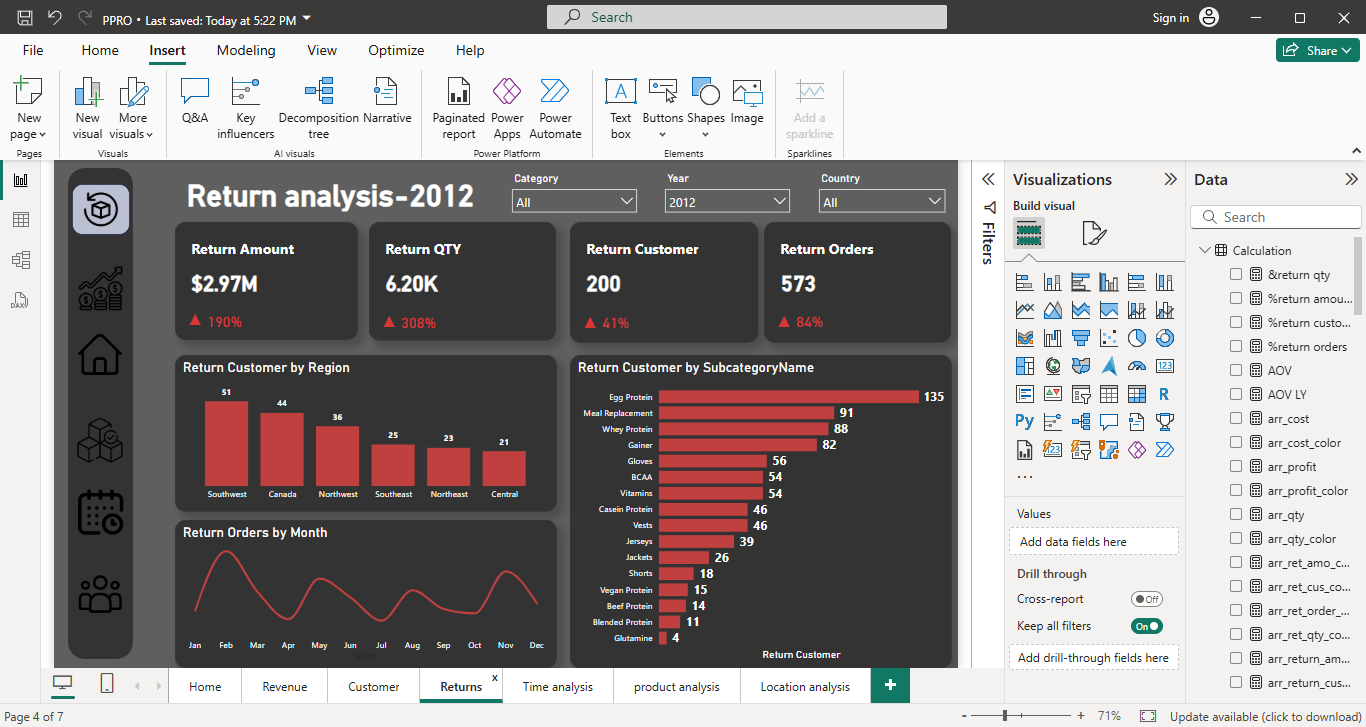

The page's visual inventory and layout, read from the dashboard file:
{"tool":"powerbi","page":{"name":"Returns","canvas":[1280,720],"ordinal":3},"visuals":[{"type":"cardVisual","fields":{"Data":["Calculation.Return Amount"]},"box":[171.5,87.9,259.4,167.2],"z":0},{"type":"cardVisual","fields":{"Data":["Calculation.Return QTY"]},"box":[446.8,87.3,265.4,168],"z":1000},{"type":"cardVisual","fields":{"Data":["Calculation.Return Customer"]},"box":[730.7,87.3,267.1,171.3],"z":2000},{"type":"cardVisual","fields":{"Data":["Calculation.Return Orders"]},"box":[1006.2,87.3,265.4,171.3],"z":3000},{"type":"cardVisual","fields":{"Data":["Calculation.%return amouny"]},"box":[199.8,192.8,126.1,56.7],"z":4000},{"type":"cardVisual","fields":{"Data":["Calculation.&return qty"]},"box":[474.8,192.8,107.7,66.6],"z":5000},{"type":"cardVisual","fields":{"Data":["Calculation.%return customer"]},"box":[759.7,192.8,104.9,66.6],"z":6000},{"type":"cardVisual","fields":{"Data":["Calculation.%return orders"]},"box":[1034.6,192.8,89.3,59.5],"z":7000},{"type":"lineChart","fields":{"Y":["Calculation.Return Orders"],"Category":["Calendar.Month"]},"box":[171.4,509.8,541.4,210.2],"z":8000},{"type":"columnChart","fields":{"Y":["Calculation.Return Customer"],"Category":["Customer.Region.1"]},"box":[171.4,276.5,541.4,221.8],"z":9000},{"type":"barChart","fields":{"Y":["Calculation.Return Customer"],"Category":["Product.SubcategoryName"]},"box":[731.5,276.5,541.4,443.5],"z":10000},{"type":"slicer","fields":{"Values":["Customer.CountryName"]},"box":[1074.2,11.5,198.7,69.1],"z":11000},{"type":"slicer","fields":{"Values":["Calendar.Date.Variation.Date Hierarchy.Year"]},"box":[855.4,11.5,197.3,69.1],"z":12000},{"type":"shape","box":[19.8,11.3,92.1,695.9],"z":13000},{"type":"cardVisual","fields":{"Data":["Calculation.ret anal"]},"box":[171.4,0,459.4,90.7],"z":14000},{"type":"slicer","fields":{"Values":["Product.CategoryName"]},"box":[639.4,11.5,197.3,69.1],"z":15000},{"type":"image","box":[24.7,579.9,83.3,70.9],"z":16000},{"type":"image","box":[26.2,33.9,81.7,72.5],"z":17000},{"type":"image","box":[24.1,146,83.6,72.3],"z":18000},{"type":"image","box":[24.1,239.5,82.2,72.3],"z":19000},{"type":"image","box":[24.1,360,82.2,73.7],"z":20000},{"type":"image","box":[24.1,462,83.6,73.7],"z":21000},{"type":"cardVisual","fields":{"Data":["Calculation.arr_return_qty"]},"box":[446.5,191.3,56.7,66.6],"z":22000},{"type":"cardVisual","fields":{"Data":["Calculation.arr_return_amount"]},"box":[171.5,188.5,56.7,66.6],"z":23000},{"type":"cardVisual","fields":{"Data":["Calculation.arr_return_customerr"]},"box":[731.3,192.8,56.7,66.6],"z":24000},{"type":"cardVisual","fields":{"Data":["Calculation.arr_return_orders"]},"box":[1006.3,191.3,56.7,66.6],"z":25000}]}

Visuals, with their boxes on the page's 1280x720 design canvas (x1, y1, x2, y2). These are canvas units, not pixel positions in the 1366x727 screenshot, which may show the page scaled, cropped or inside an application window:
cardVisual - Calculation.Return Amount: pyautogui.locateOnScreen(172, 88, 431, 255)
cardVisual - Calculation.Return QTY: pyautogui.locateOnScreen(447, 87, 712, 255)
cardVisual - Calculation.Return Customer: pyautogui.locateOnScreen(731, 87, 998, 259)
cardVisual - Calculation.Return Orders: pyautogui.locateOnScreen(1006, 87, 1272, 259)
cardVisual - Calculation.%return amouny: pyautogui.locateOnScreen(200, 193, 326, 250)
cardVisual - Calculation.&return qty: pyautogui.locateOnScreen(475, 193, 582, 259)
cardVisual - Calculation.%return customer: pyautogui.locateOnScreen(760, 193, 865, 259)
cardVisual - Calculation.%return orders: pyautogui.locateOnScreen(1035, 193, 1124, 252)
lineChart - Calculation.Return Orders x Calendar.Month: pyautogui.locateOnScreen(171, 510, 713, 720)
columnChart - Calculation.Return Customer x Customer.Region.1: pyautogui.locateOnScreen(171, 276, 713, 498)
barChart - Calculation.Return Customer x Product.SubcategoryName: pyautogui.locateOnScreen(732, 276, 1273, 720)
slicer - Customer.CountryName: pyautogui.locateOnScreen(1074, 12, 1273, 81)
slicer - Calendar.Date.Variation.Date Hierarchy.Year: pyautogui.locateOnScreen(855, 12, 1053, 81)
shape: pyautogui.locateOnScreen(20, 11, 112, 707)
cardVisual - Calculation.ret anal: pyautogui.locateOnScreen(171, 0, 631, 91)
slicer - Product.CategoryName: pyautogui.locateOnScreen(639, 12, 837, 81)
image: pyautogui.locateOnScreen(25, 580, 108, 651)
image: pyautogui.locateOnScreen(26, 34, 108, 106)
image: pyautogui.locateOnScreen(24, 146, 108, 218)
image: pyautogui.locateOnScreen(24, 240, 106, 312)
image: pyautogui.locateOnScreen(24, 360, 106, 434)
image: pyautogui.locateOnScreen(24, 462, 108, 536)
cardVisual - Calculation.arr_return_qty: pyautogui.locateOnScreen(446, 191, 503, 258)
cardVisual - Calculation.arr_return_amount: pyautogui.locateOnScreen(172, 188, 228, 255)
cardVisual - Calculation.arr_return_customerr: pyautogui.locateOnScreen(731, 193, 788, 259)
cardVisual - Calculation.arr_return_orders: pyautogui.locateOnScreen(1006, 191, 1063, 258)
